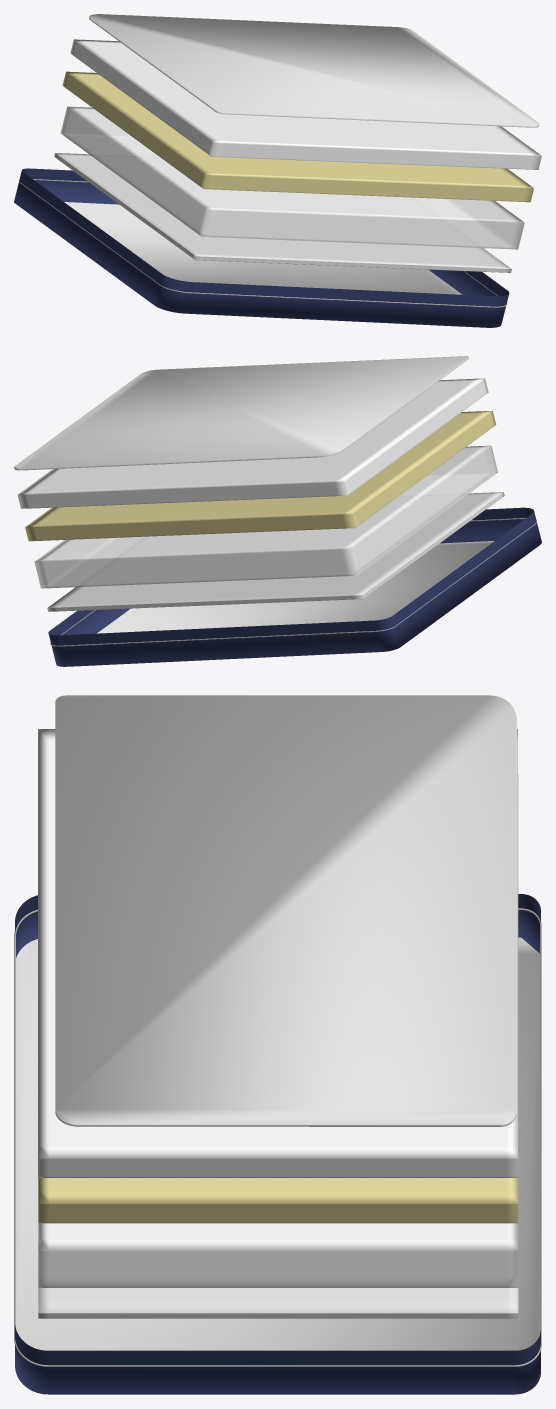
Rendered from Ortho_Spine_Therapy_ET.glb.
3 renders of one model, top to bottom at view 1: azimuth 30°, elevation 25°; view 2: azimuth 150°, elevation 25°; view 3: azimuth 270°, elevation 25°, orthographic. The views are drawn at different scales.
Parts seen in each view (by area): view 1: Cube.087, Cube.093, Cube.086, Cube.094, Cube.095, Cube.091; view 2: Cube.087, Cube.093, Cube.086, Cube.094, Cube.095, Cube.091; view 3: Cube.087, Cube.093, Cube.094, Cube.086, Cube.095, Cube.091.
Part boxes in pixels (x1,y1,x2,y2): Cube.087: (89, 14, 539, 127); Cube.093: (14, 168, 509, 327); Cube.086: (60, 106, 524, 249); Cube.094: (70, 39, 541, 169); Cube.095: (62, 71, 533, 202); Cube.091: (54, 153, 511, 272); Cube.087: (14, 356, 468, 470); Cube.093: (48, 507, 541, 666); Cube.086: (34, 445, 497, 588); Cube.094: (17, 378, 488, 508); Cube.095: (25, 410, 496, 541); Cube.091: (47, 492, 504, 611); Cube.087: (55, 695, 516, 1126); Cube.093: (14, 894, 541, 1394); Cube.094: (38, 729, 517, 1177); Cube.086: (38, 1223, 518, 1287); Cube.095: (38, 774, 518, 1223); Cube.091: (38, 1288, 518, 1318).
Bounding box in the file's own units: 16.06 × 10.77 × 11.01.
10 materials, 1 textured.
